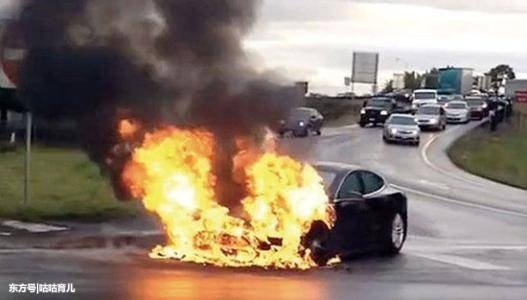fire: (113, 121, 342, 271)
